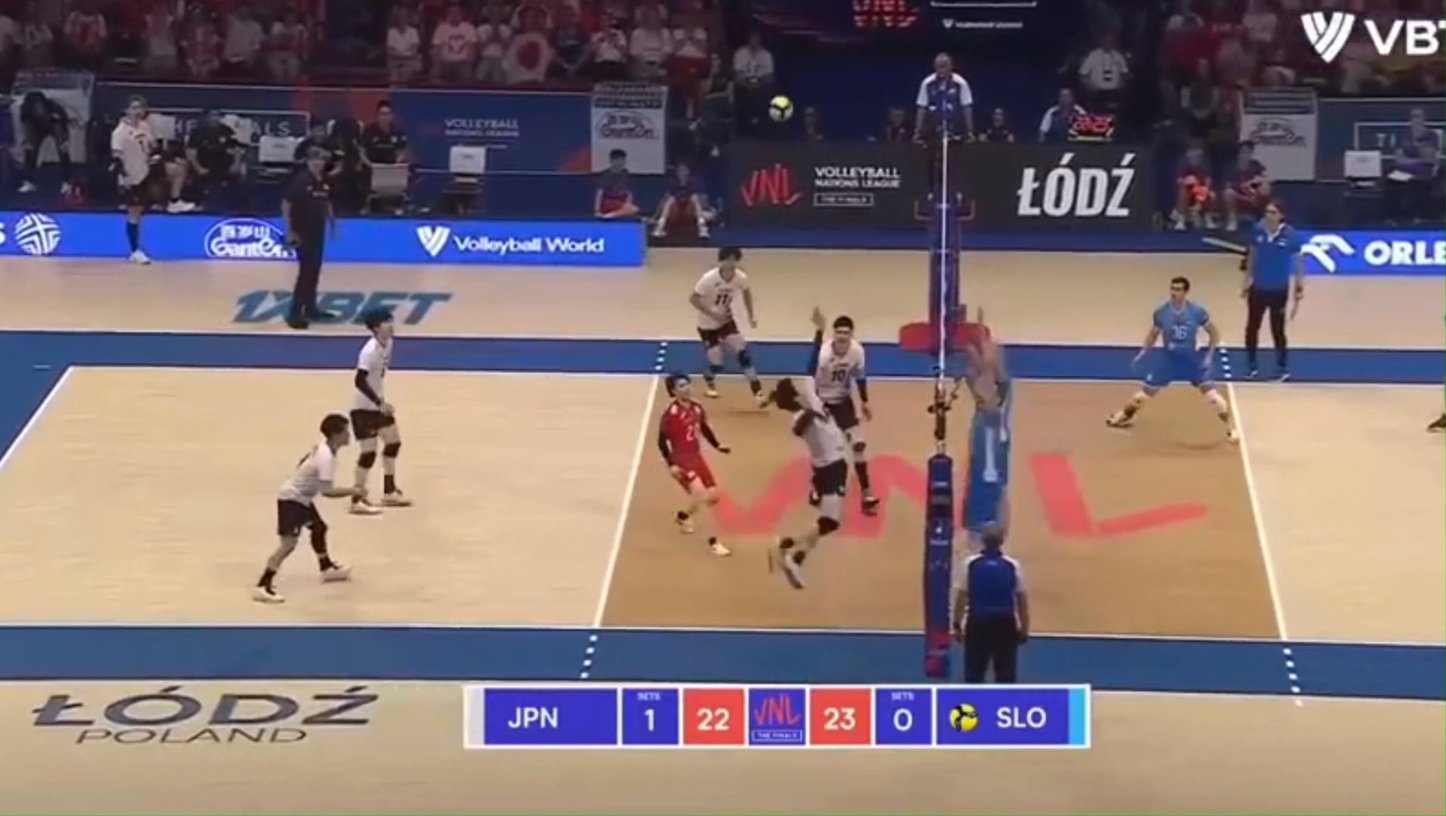ball: (768, 94, 793, 122)
player: (1106, 276, 1238, 443), (960, 340, 1012, 539)
player 1: (253, 413, 365, 602), (769, 373, 849, 588), (350, 308, 411, 514), (814, 317, 878, 512), (690, 247, 765, 406), (657, 373, 729, 533), (810, 308, 825, 371), (708, 529, 731, 555)
referee: (953, 518, 1030, 682), (1243, 202, 1304, 379), (915, 52, 973, 225), (282, 147, 335, 329)
